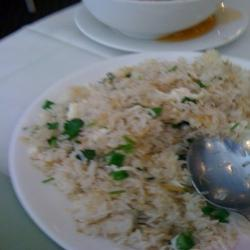rice: (48, 80, 226, 236)
